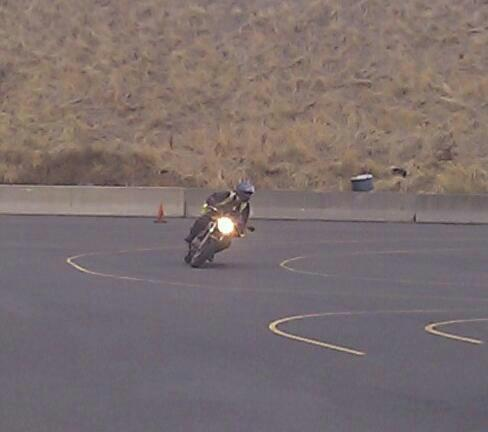motorcycle: (190, 204, 245, 268)
